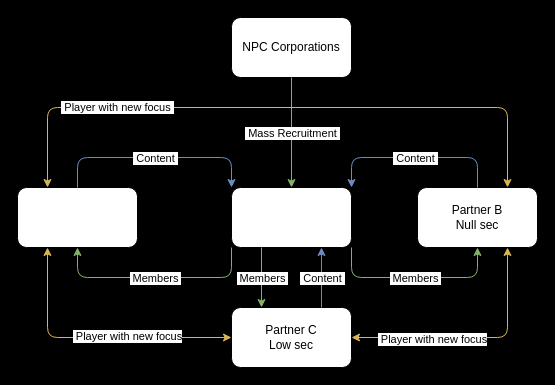
This 555x385 diagram has some shape labels left out. Each missing label, with the box of its shape:
Entry Corporations: (230, 186, 352, 248)
Partner A Wormholes: (16, 186, 138, 248)
